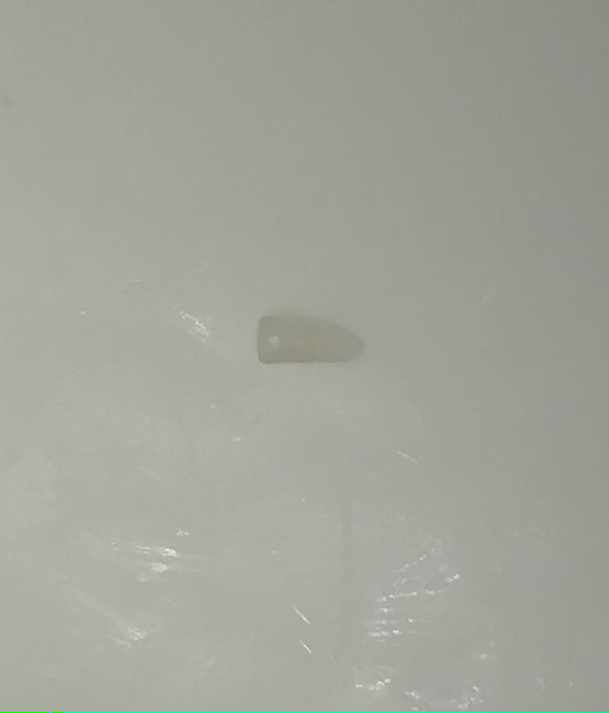Gao Tam: (244, 296, 375, 391)
